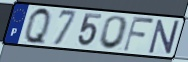5: (77, 12, 104, 48)
7: (54, 8, 77, 47)
F: (121, 15, 156, 54)
N: (147, 19, 181, 56)
O: (98, 15, 130, 50)
Q: (23, 6, 52, 47)
